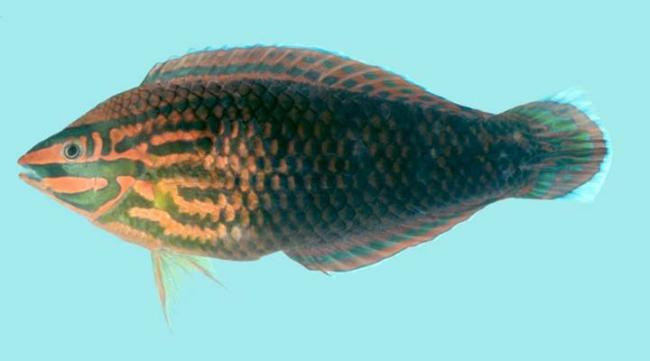fish: (16, 44, 610, 334)
